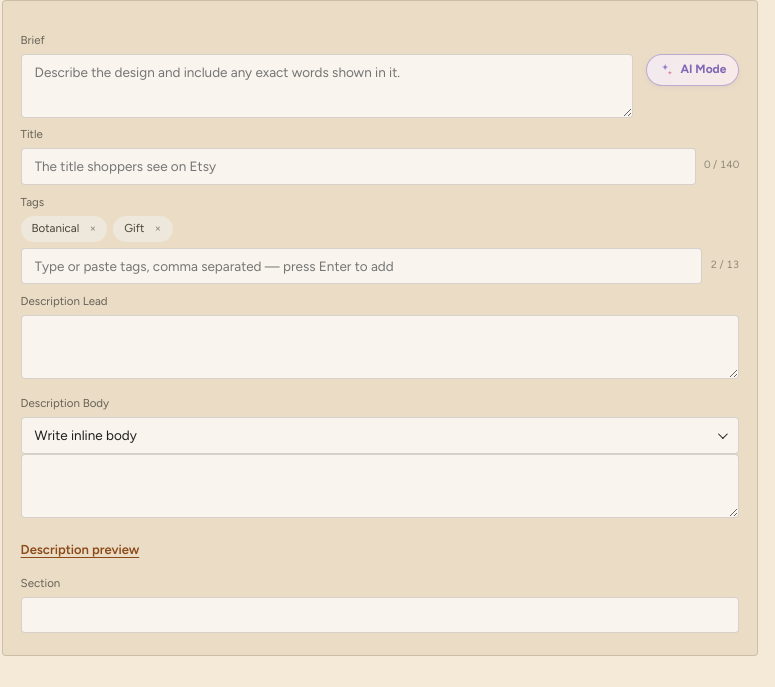
Test: DetailsTab › filters common copy by title and summary
Click the button named "Description Body" at coordinates (86, 435), box [21, 417, 739, 454]
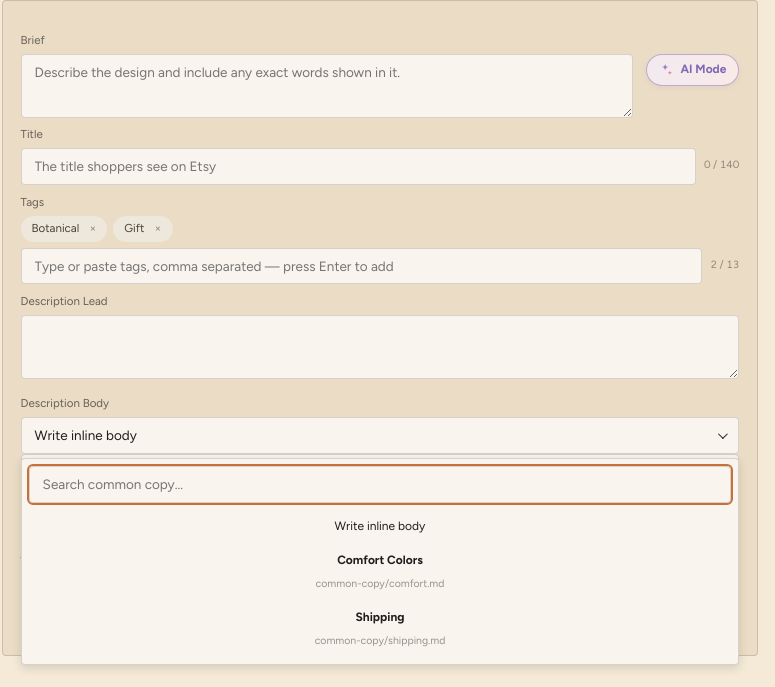
Type "care" into the search field named "Search description body sources" at coordinates (380, 484), box [29, 466, 731, 503]
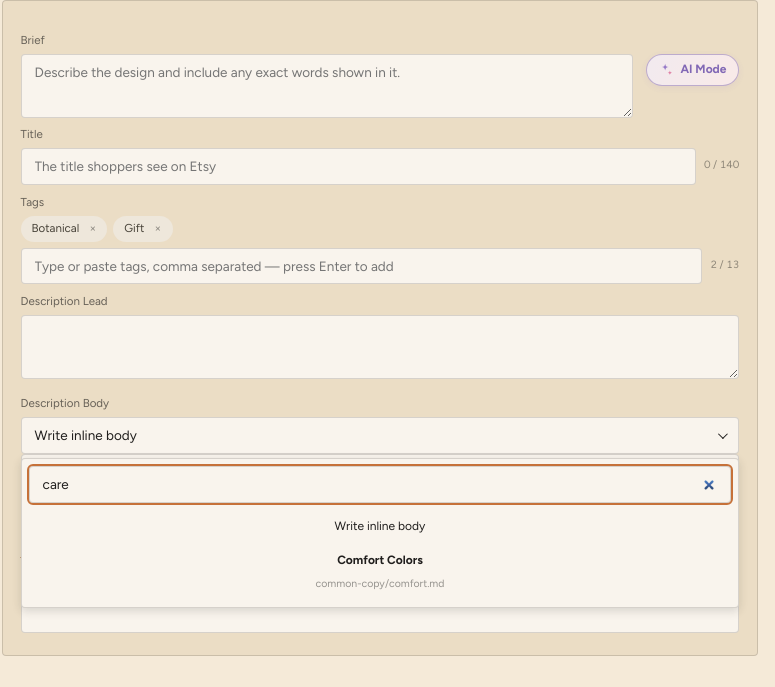
Check: the option "Comfort Colors common-copy/comfort.md" is shown, box [29, 543, 731, 600]
Check: the text "common-copy/comfort.md" is shown, box [316, 576, 444, 592]
Check: the option "Shipping" is gone
